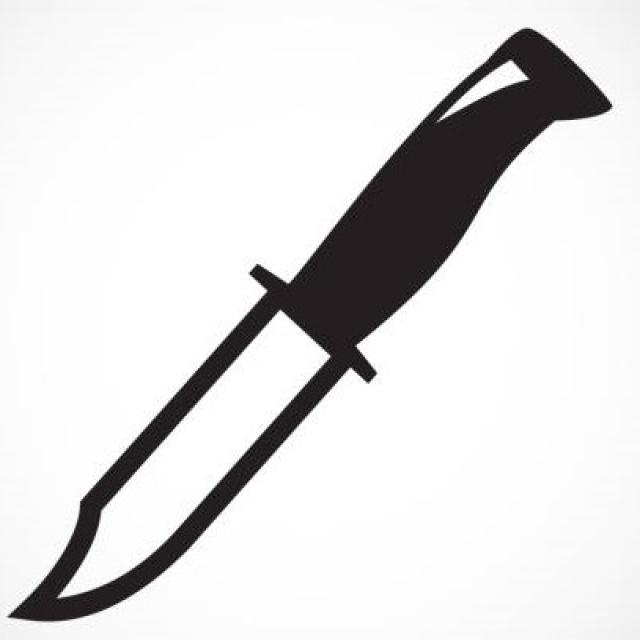knife: (10, 1, 615, 640)
